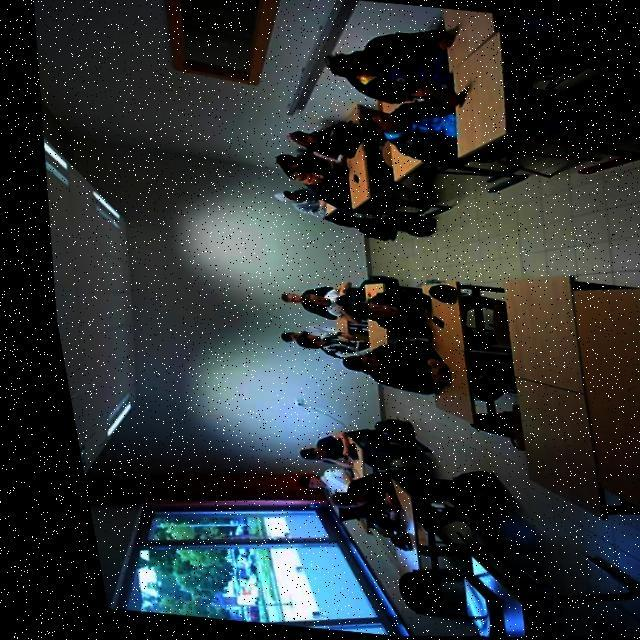phone_use: (288, 0, 356, 112), (343, 97, 454, 165), (331, 474, 402, 536), (299, 431, 358, 467)
